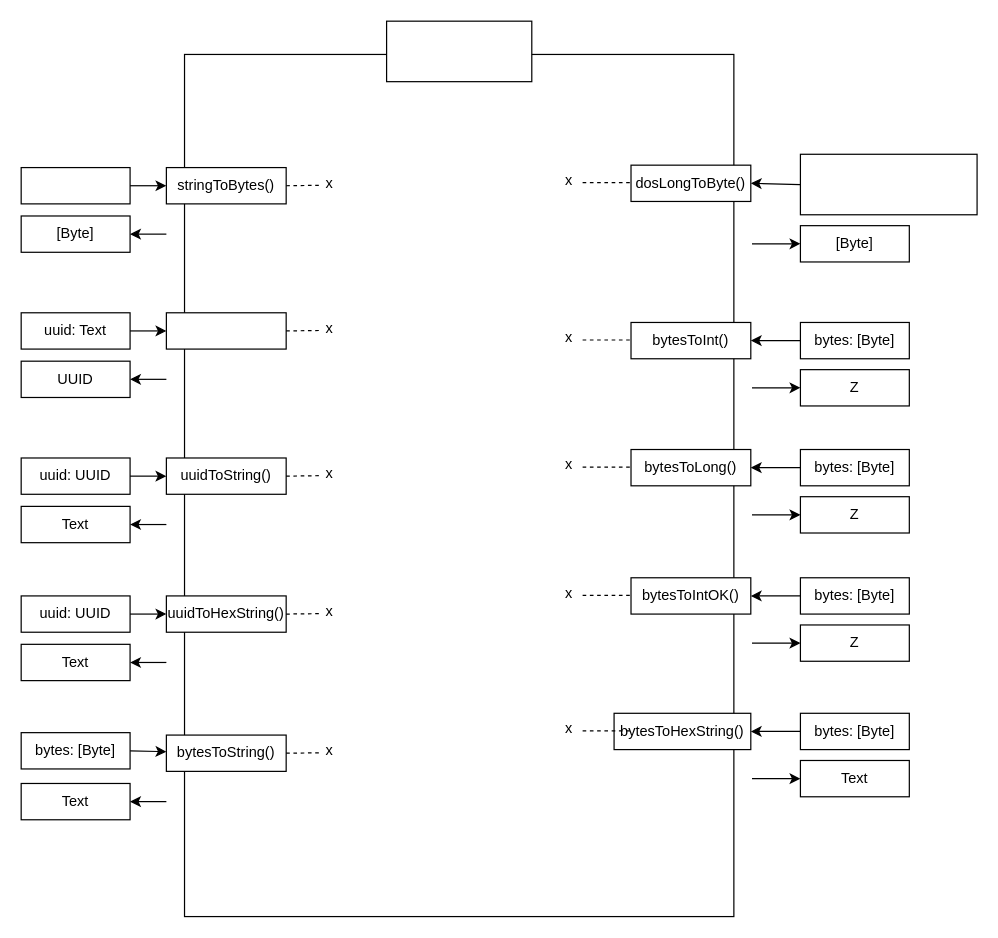
Some shapes in this 998 by 938 pixel diagram are drawn without their labels. The centre of each missing label's shape, as x and y in pixels:
masSignificativos: Z menosSignificativos: Z: the point at 888,184
stringToUUID(): the point at 225,330
texto: Text: the point at 75,185
Utilidades: the point at 458,51
